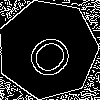O: (23, 24, 84, 84)
